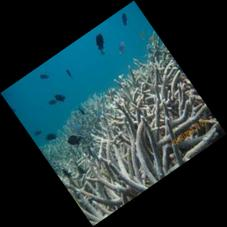bleached_corals: (23, 34, 225, 227)
